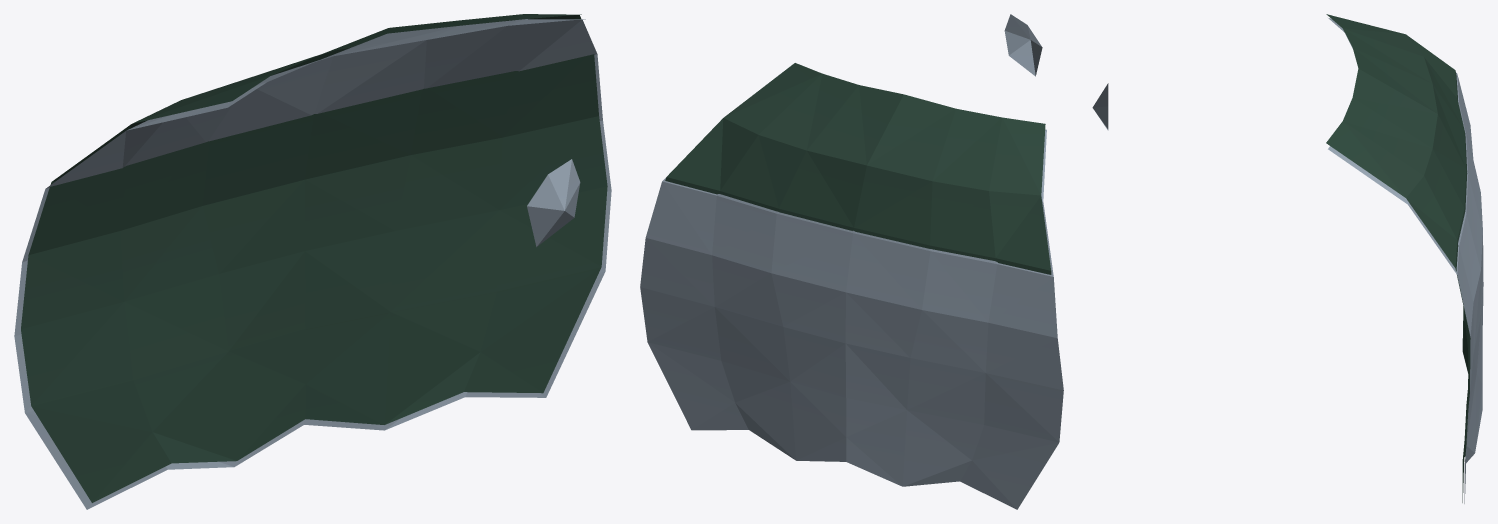
The model's file is hobbit_capa_2.glb.
The picture shows the model from 3 angles, left to right: view 1: azimuth 30°, elevation 25°; view 2: azimuth 150°, elevation 25°; view 3: azimuth 270°, elevation 25°; orthographic projection. The views are drawn at different scales.
Visible parts, largest first — view 1: hobbit_capa_2; view 2: hobbit_capa_2; view 3: hobbit_capa_2.
Part boxes in pixels (x1,y1,x2,y2): hobbit_capa_2: (14, 14, 611, 509); hobbit_capa_2: (640, 14, 1063, 509); hobbit_capa_2: (1092, 14, 1483, 503).
Bounding box in the file's own units: 1.14 × 0.8685 × 0.8601.
Materials: 1 (1 with a texture image).
